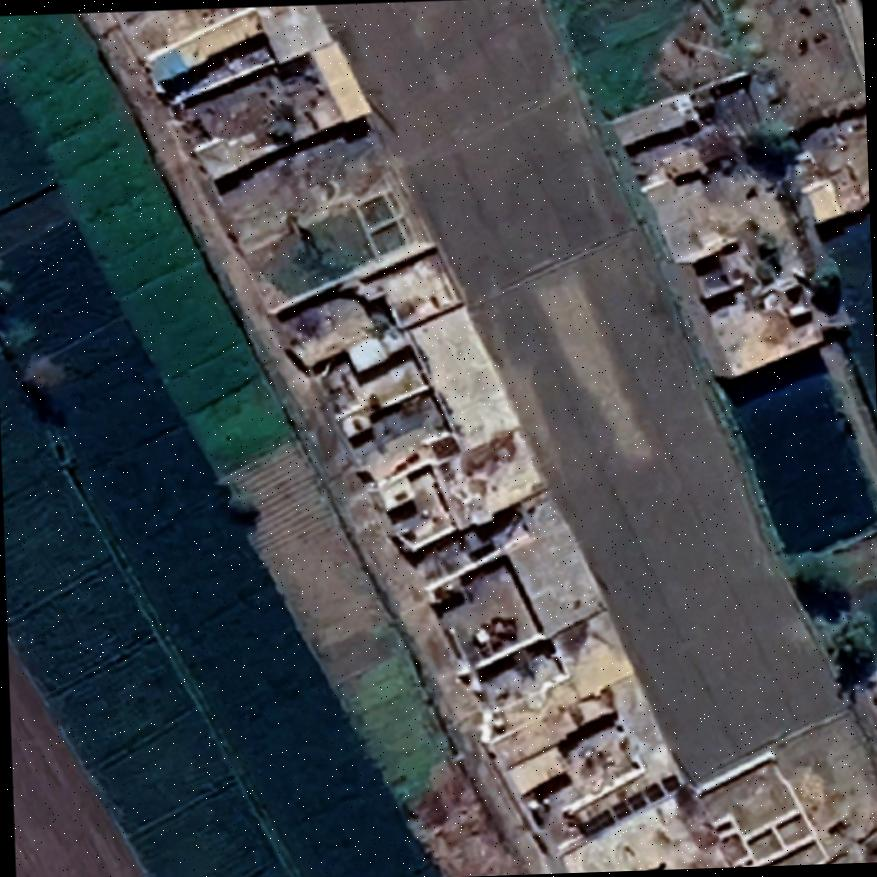Solarpanel: (574, 767, 682, 843)
